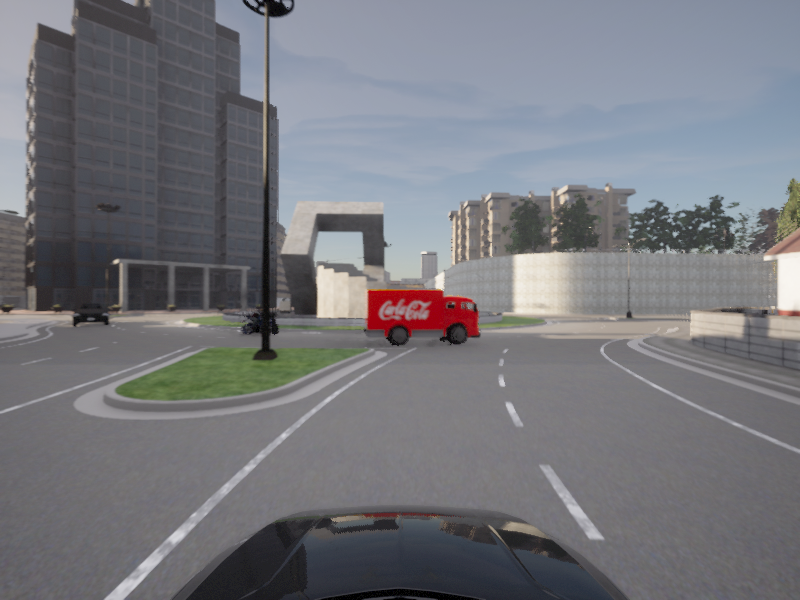vehicle: (362, 288, 485, 347), (237, 307, 282, 337), (71, 302, 110, 327)
